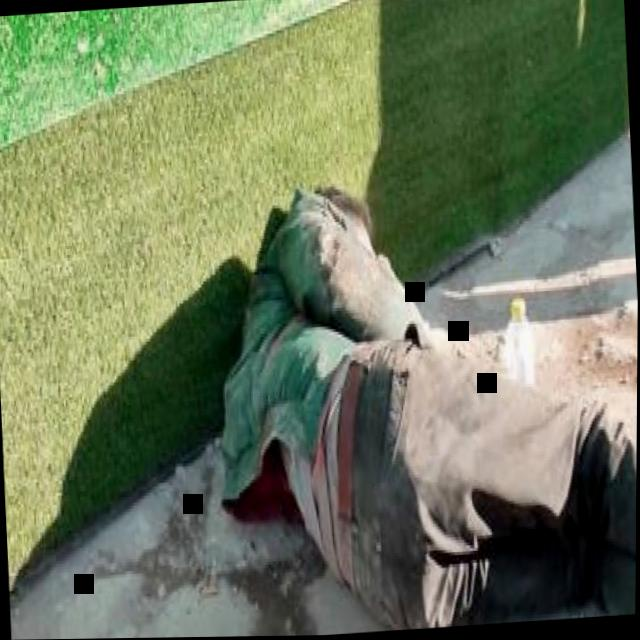Fall-Detected: (198, 76, 640, 638)
